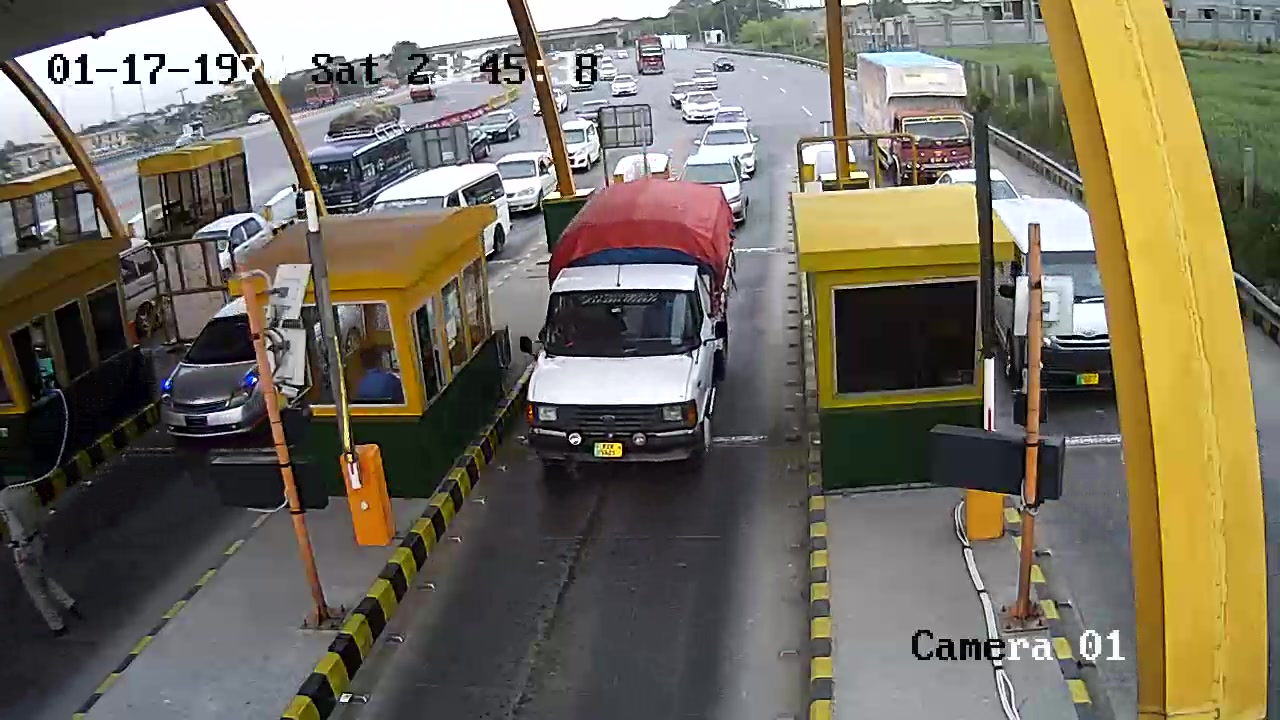F3: (517, 176, 748, 475)
